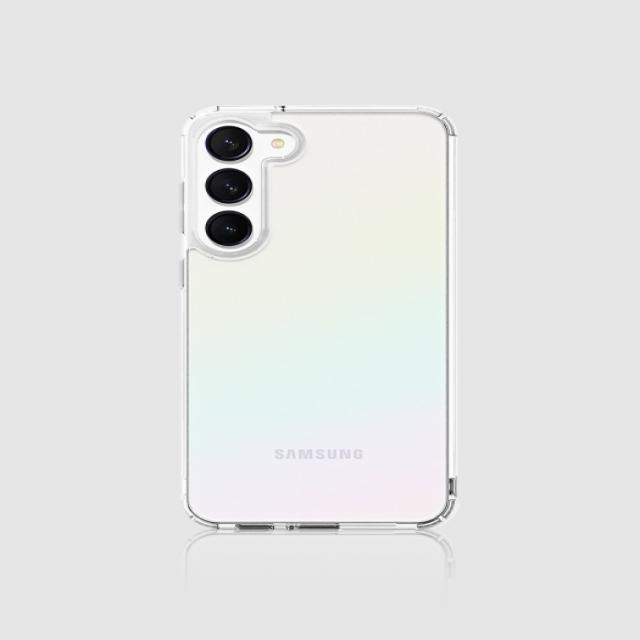phone: (181, 104, 458, 532)
